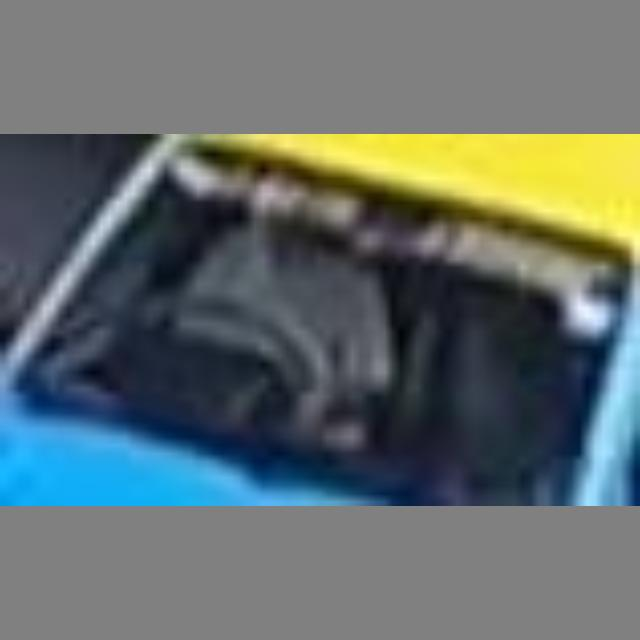tidak-pakai: (154, 183, 429, 450)
